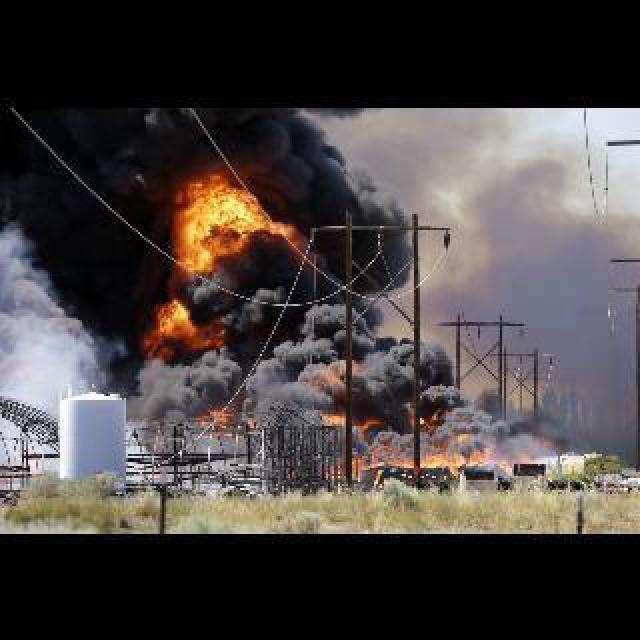Fire: (132, 180, 290, 346), (352, 454, 514, 480), (194, 402, 236, 428)
Smoke: (2, 210, 114, 418), (206, 234, 416, 344), (124, 346, 470, 410), (292, 106, 434, 230), (336, 410, 516, 462)
